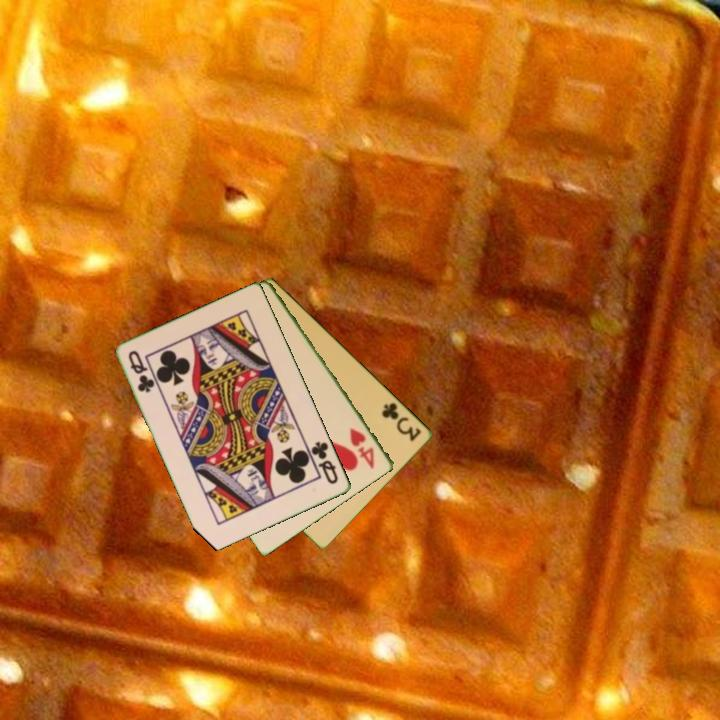3c: (378, 399, 425, 444)
4h: (346, 425, 378, 472)
Qc: (308, 437, 342, 487), (125, 347, 158, 396)
